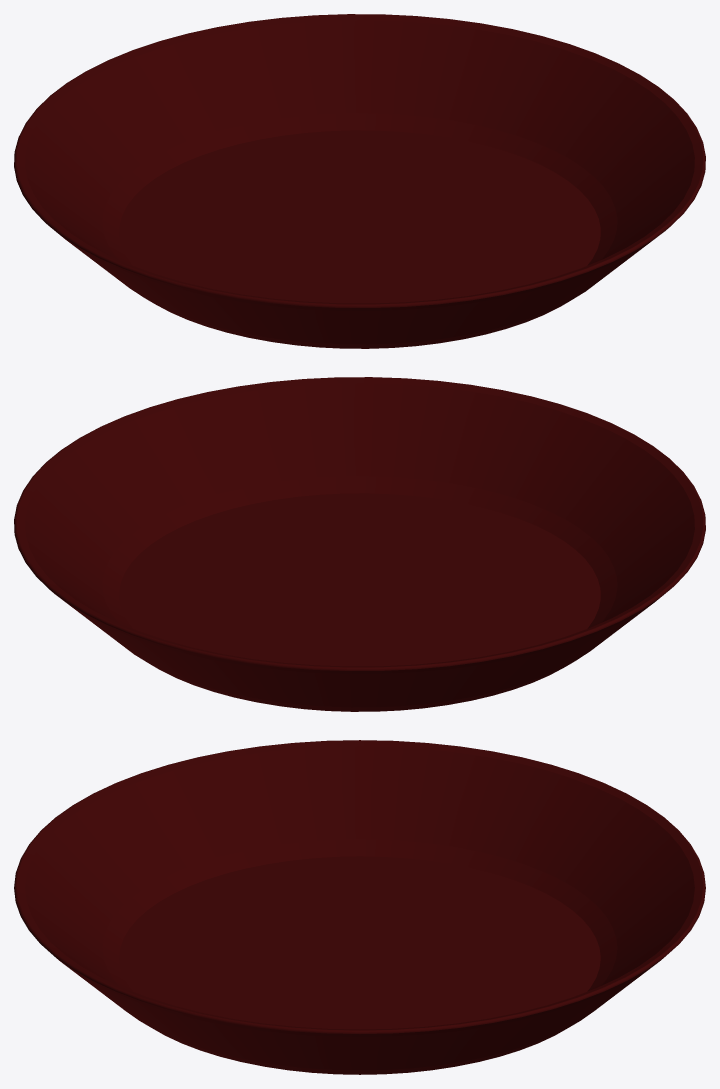
3 renders of one model, top to bottom at view 1: azimuth 30°, elevation 25°; view 2: azimuth 150°, elevation 25°; view 3: azimuth 270°, elevation 25°, orthographic.
Parts seen in each view (by area): view 1: bowl; view 2: bowl; view 3: bowl.
Part boxes in pixels (left/top/right/bottom): bowl: left=14, top=14, right=705, bottom=348; bowl: left=14, top=377, right=705, bottom=711; bowl: left=14, top=740, right=705, bottom=1074.
Bounding box in the file's own units: 0.25 × 0.035 × 0.25.
